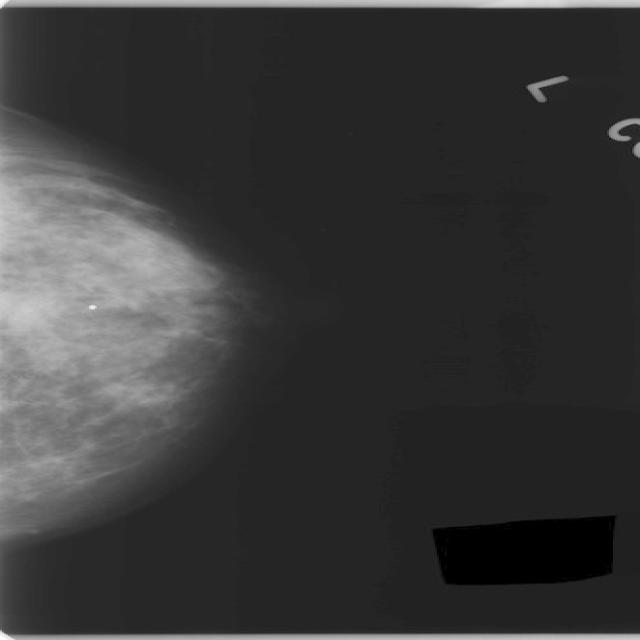tumour: (0, 287, 60, 332)
